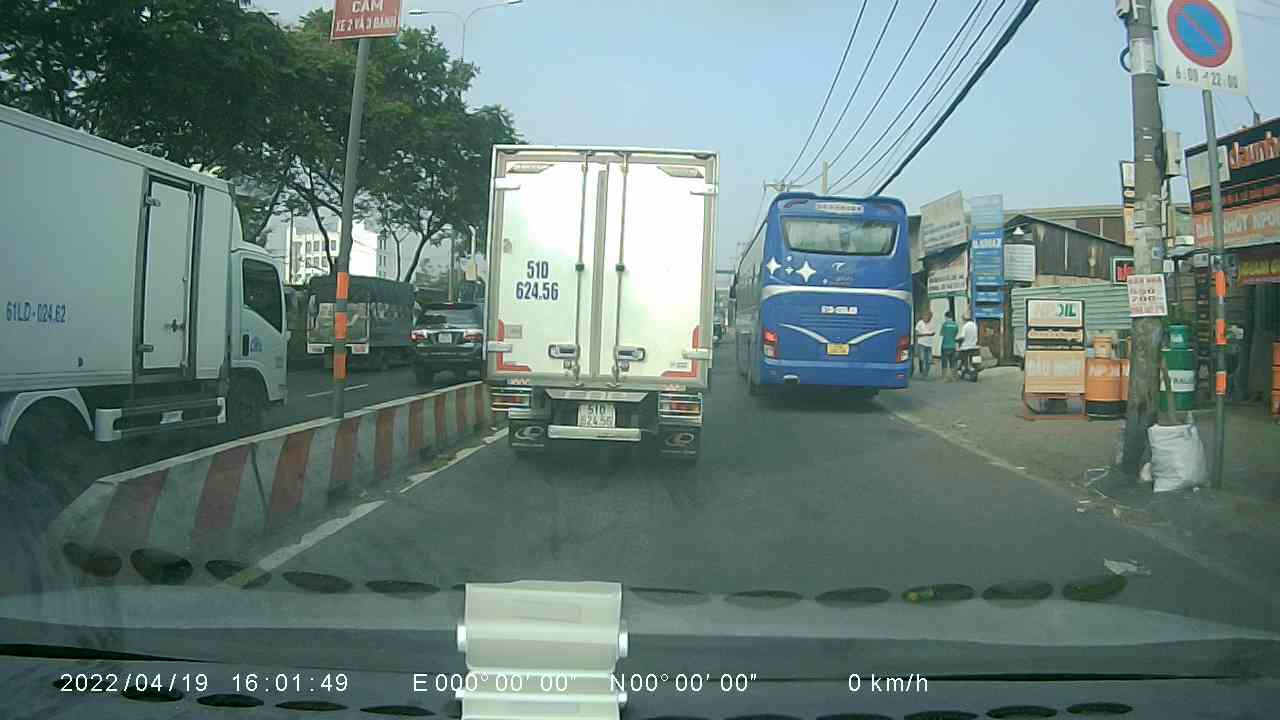Cam do xe: (1164, 2, 1240, 72)
